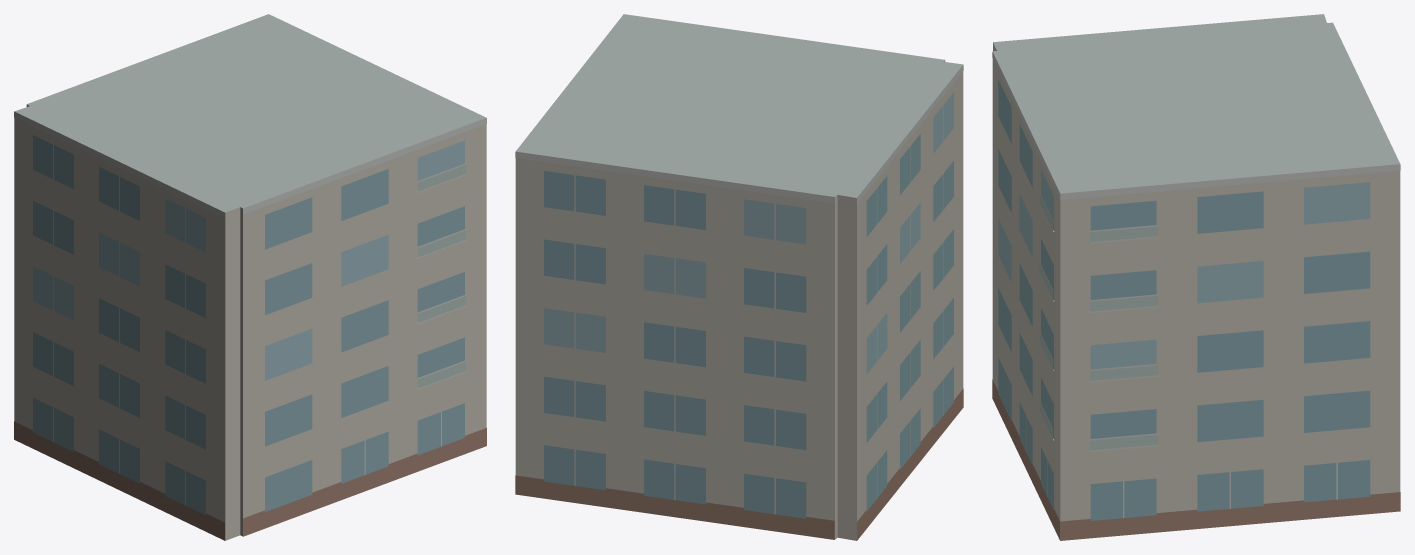
File: survey-upis-32638792.glb
3 renders of one model, left to right at view 1: azimuth 30°, elevation 25°; view 2: azimuth 150°, elevation 25°; view 3: azimuth 270°, elevation 25°, orthographic. The views are drawn at different scales.
Parts seen in each view (by area): view 1: survey-upis-32638792.tmp; view 2: survey-upis-32638792.tmp; view 3: survey-upis-32638792.tmp.
Boxes of the visible parts, x1=… form: survey-upis-32638792.tmp: x1=14, y1=14, x2=486, y2=540; survey-upis-32638792.tmp: x1=515, y1=14, x2=963, y2=540; survey-upis-32638792.tmp: x1=992, y1=14, x2=1400, y2=540.
Bounding box in the file's own units: 14.54 × 13.1 × 13.96.
